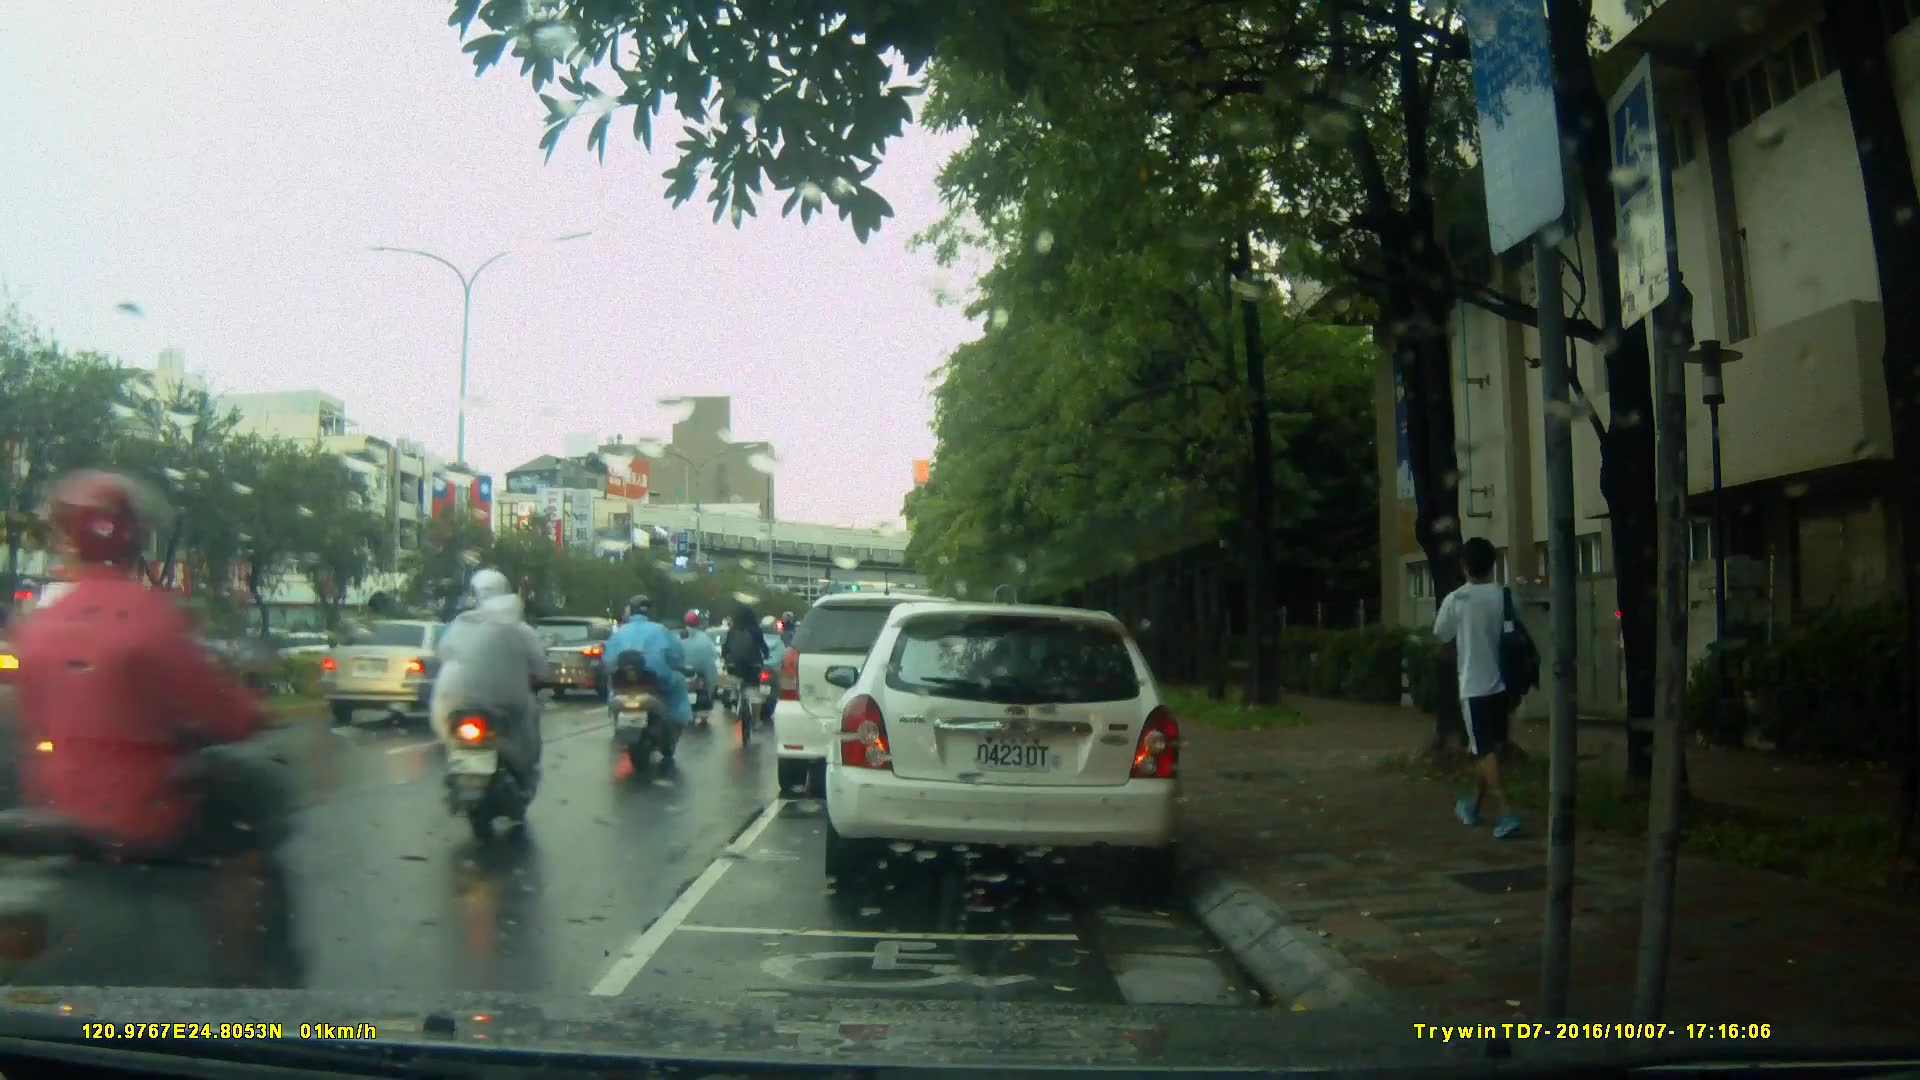pedestrian: (1442, 516, 1553, 869)
rider: (26, 463, 293, 1036), (437, 573, 555, 849), (612, 599, 693, 770), (421, 600, 486, 765), (722, 602, 774, 762), (667, 606, 722, 721), (749, 619, 792, 721), (715, 613, 759, 709)
vehicle: (822, 604, 1188, 882), (774, 595, 995, 802), (315, 617, 488, 728), (20, 576, 161, 697), (520, 616, 641, 705), (144, 630, 241, 686)
